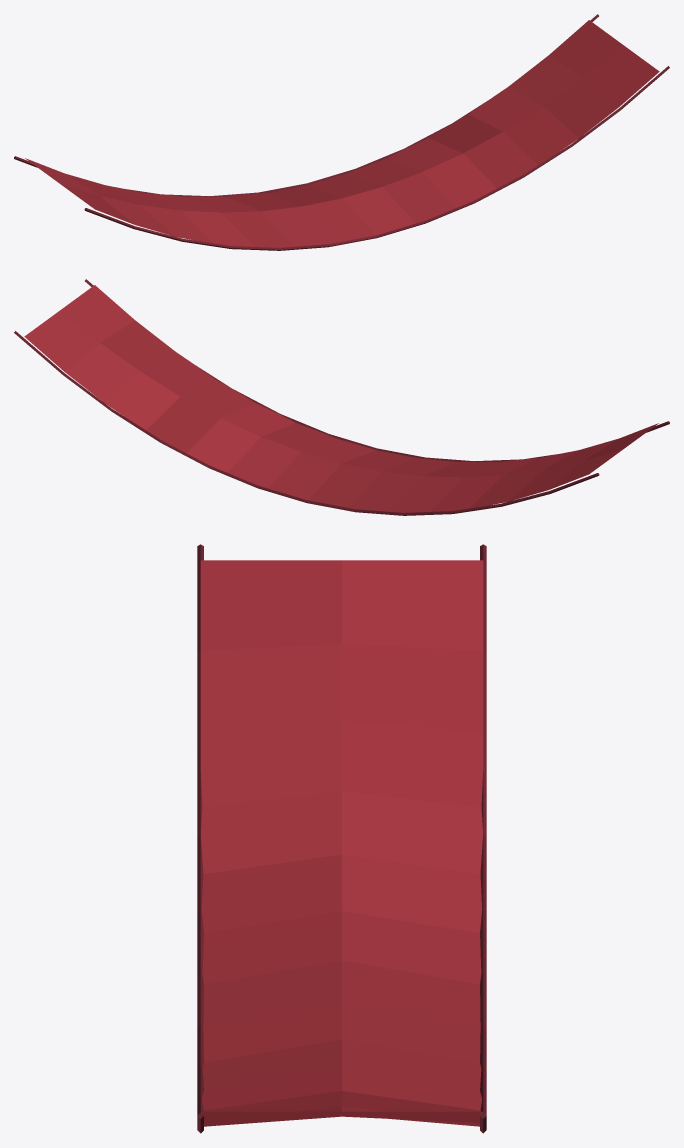
Rendered from Awning_Span_12m.fbx.
3 renders of one model, top to bottom at view 1: azimuth 30°, elevation 25°; view 2: azimuth 150°, elevation 25°; view 3: azimuth 270°, elevation 25°, orthographic. The views are drawn at different scales.
Parts seen in each view (by area): view 1: Awning_Span_12m; view 2: Awning_Span_12m; view 3: Awning_Span_12m.
Boxes of the visible parts, box(x1,y1,x2,y2) form: Awning_Span_12m: box(14, 14, 669, 250); Awning_Span_12m: box(14, 279, 669, 515); Awning_Span_12m: box(197, 544, 486, 1133).
Size of the model in its own units: 12.43 by 2.06 by 2.66.
